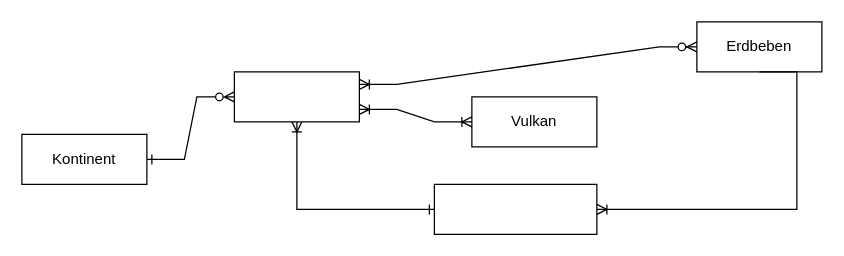
Some shapes in this 844 by 256 pixel diagram are drawn without their labels. Each missing label, with the centre of its shape:
Land: the point at 296,96
Tektonische Platte: the point at 515,208
